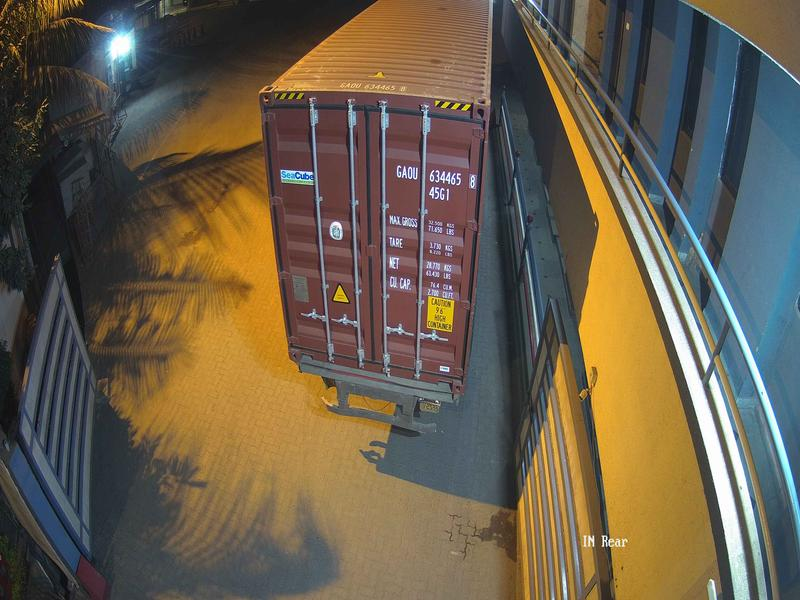container: (246, 69, 510, 407)
